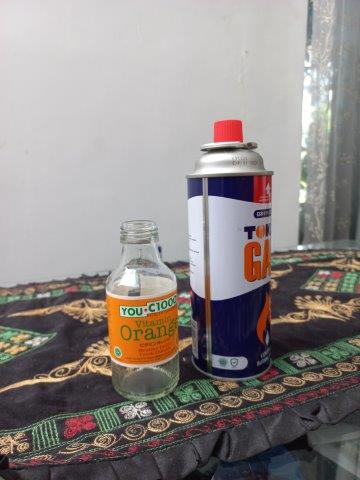botolkaca: (104, 220, 179, 401)
kaleng: (187, 120, 273, 380)
